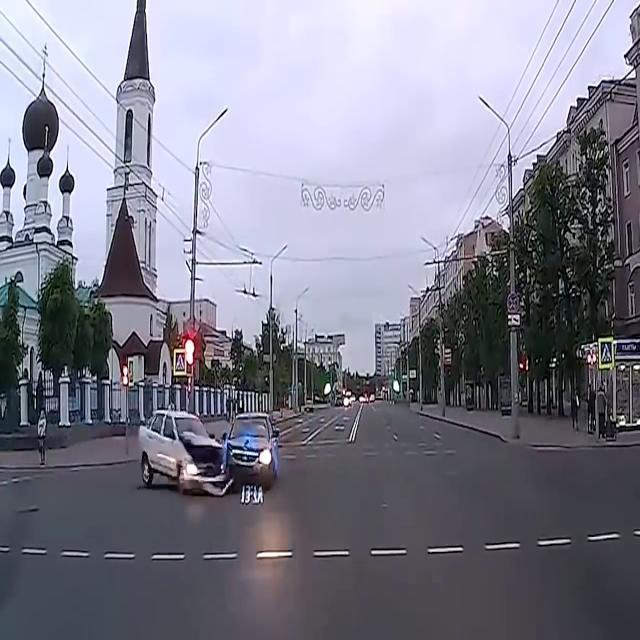accident: (140, 409, 280, 498)
